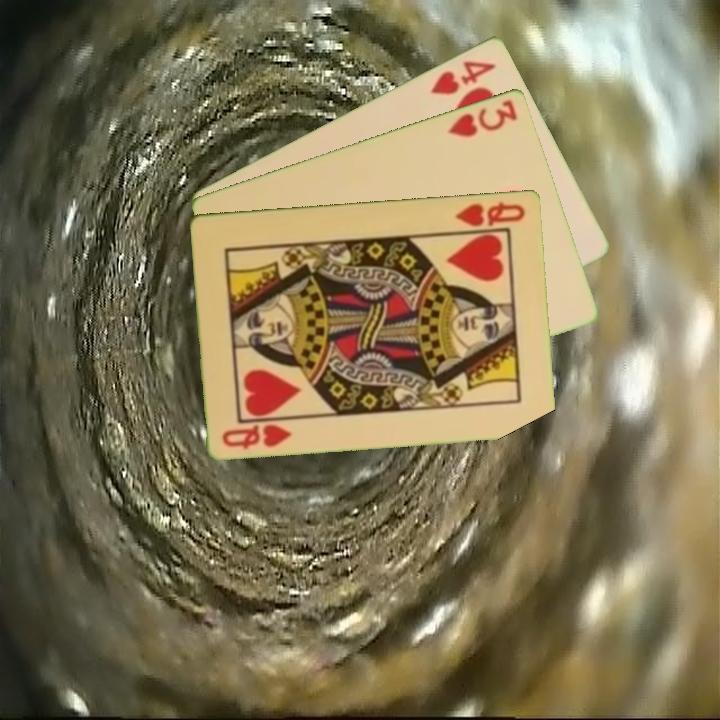3h: (444, 95, 521, 140)
4h: (427, 56, 499, 98)
Qh: (452, 197, 528, 229), (219, 420, 295, 452)
